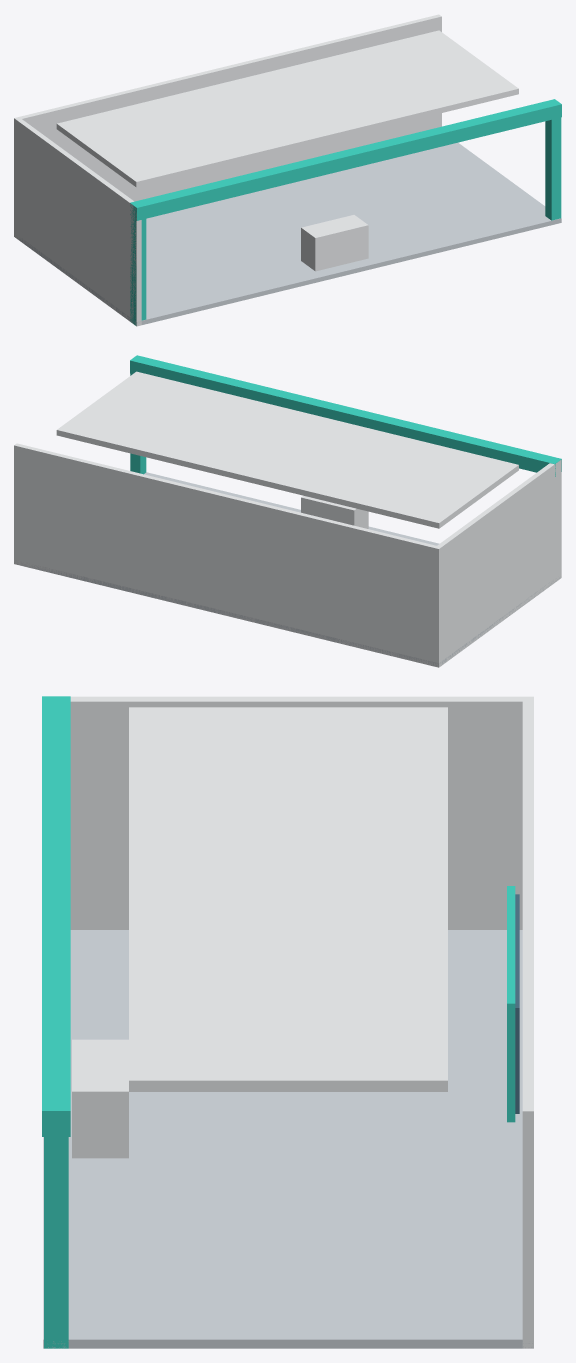
The picture shows the model from 3 angles, top to bottom: view 1: azimuth 30°, elevation 25°; view 2: azimuth 150°, elevation 25°; view 3: azimuth 270°, elevation 25°; orthographic projection. The views are drawn at different scales.
Parts seen in each view (by area): view 1: Exhibition Booth Concept; view 2: Exhibition Booth Concept; view 3: Exhibition Booth Concept.
Part boxes in pixels (<box>): Exhibition Booth Concept: <box>14,14,561,326</box>; Exhibition Booth Concept: <box>14,355,561,667</box>; Exhibition Booth Concept: <box>42,696,533,1348</box>.
Size of the model in its own units: 12 by 3.34 by 6.02.
